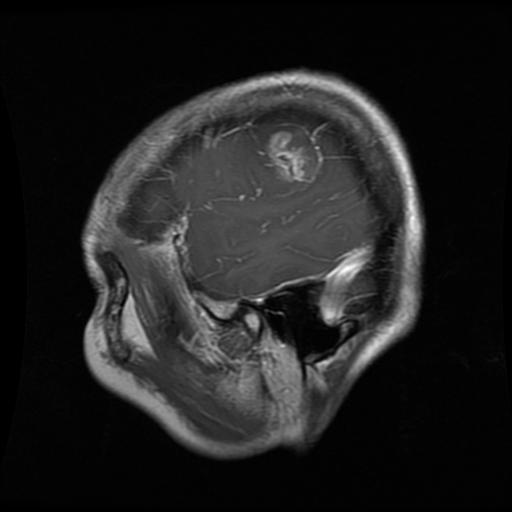Gliomia_tumour: (269, 130, 313, 180)
